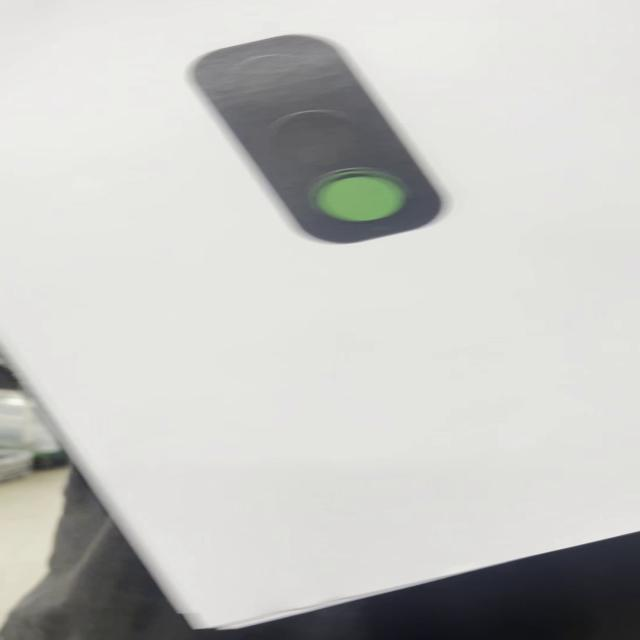green: (179, 32, 444, 245)
